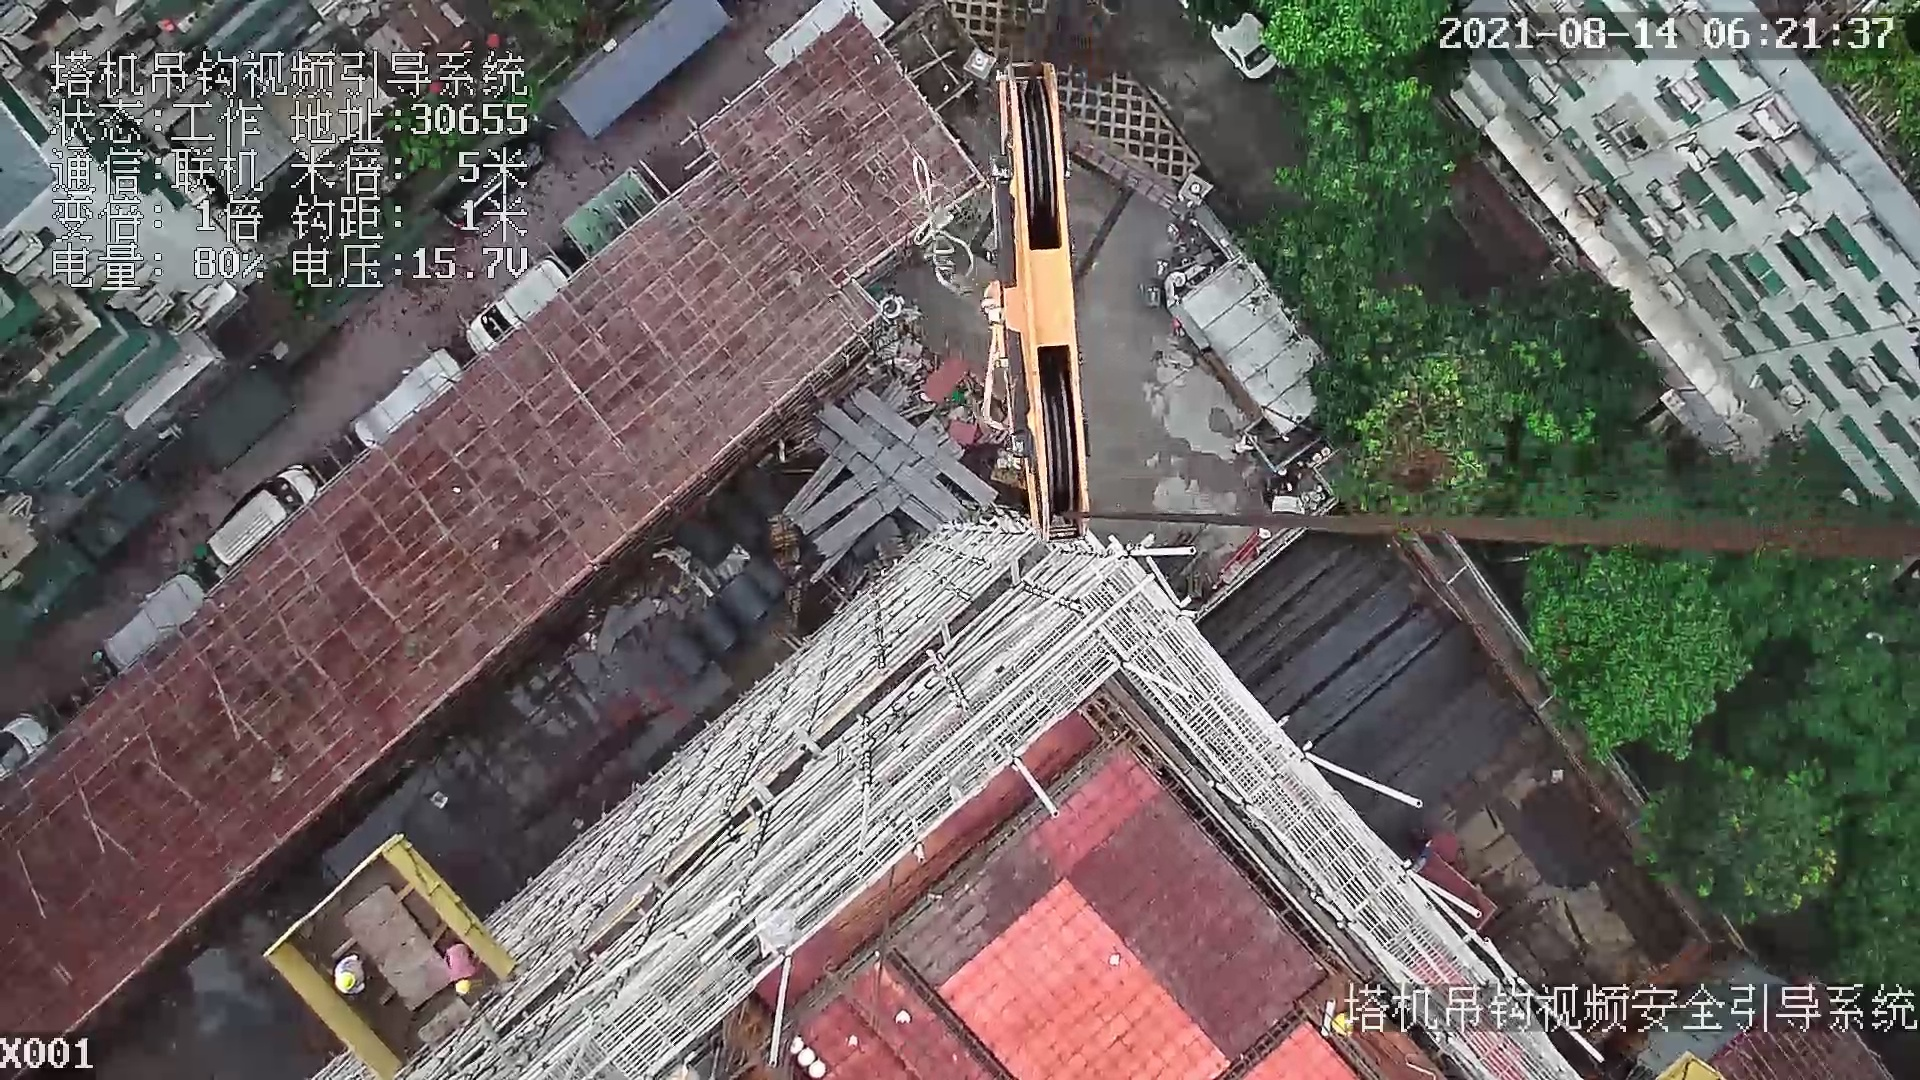helmet: (453, 980, 475, 995), (337, 974, 356, 992)
hook: (977, 59, 1090, 536)
person: (432, 942, 488, 995), (333, 963, 373, 999)
